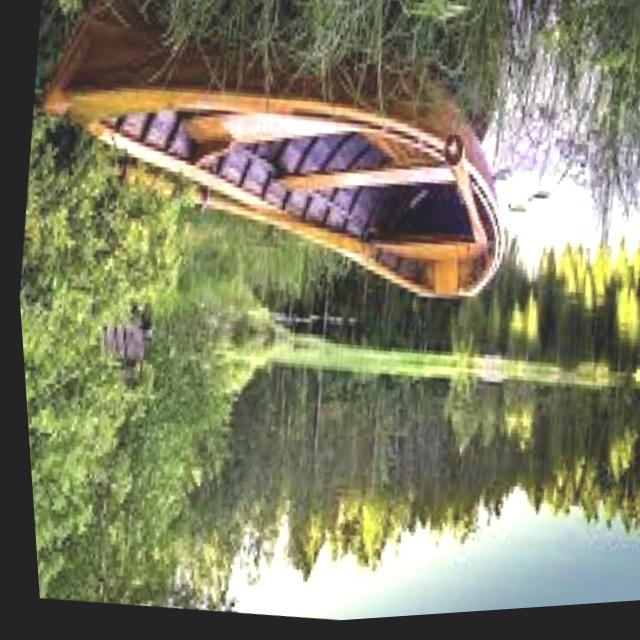ship2: (43, 5, 504, 305)
